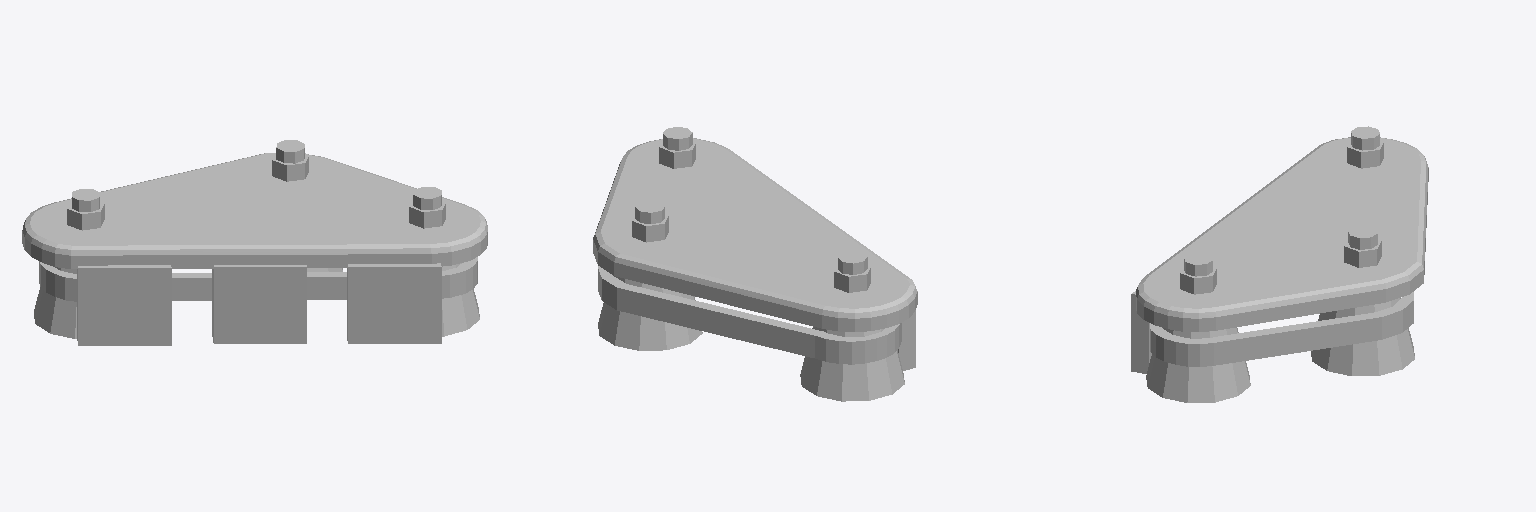
The model's file is TargetBumper2.obj.
The picture shows the model from 3 angles: view 1: azimuth 30°, elevation 25°; view 2: azimuth 150°, elevation 25°; view 3: azimuth 270°, elevation 25°; orthographic projection.
Visible parts, largest first — view 1: SmallBumper_Base.001_Untitled.045; view 2: SmallBumper_Base.001_Untitled.045; view 3: SmallBumper_Base.001_Untitled.045.
Boxes of the visible parts, <box> form: SmallBumper_Base.001_Untitled.045: <box>22,140,487,345</box>; SmallBumper_Base.001_Untitled.045: <box>593,127,917,401</box>; SmallBumper_Base.001_Untitled.045: <box>1131,126,1428,402</box>.
Size of the model in its own units: 0.1242 by 0.0397 by 0.0874.